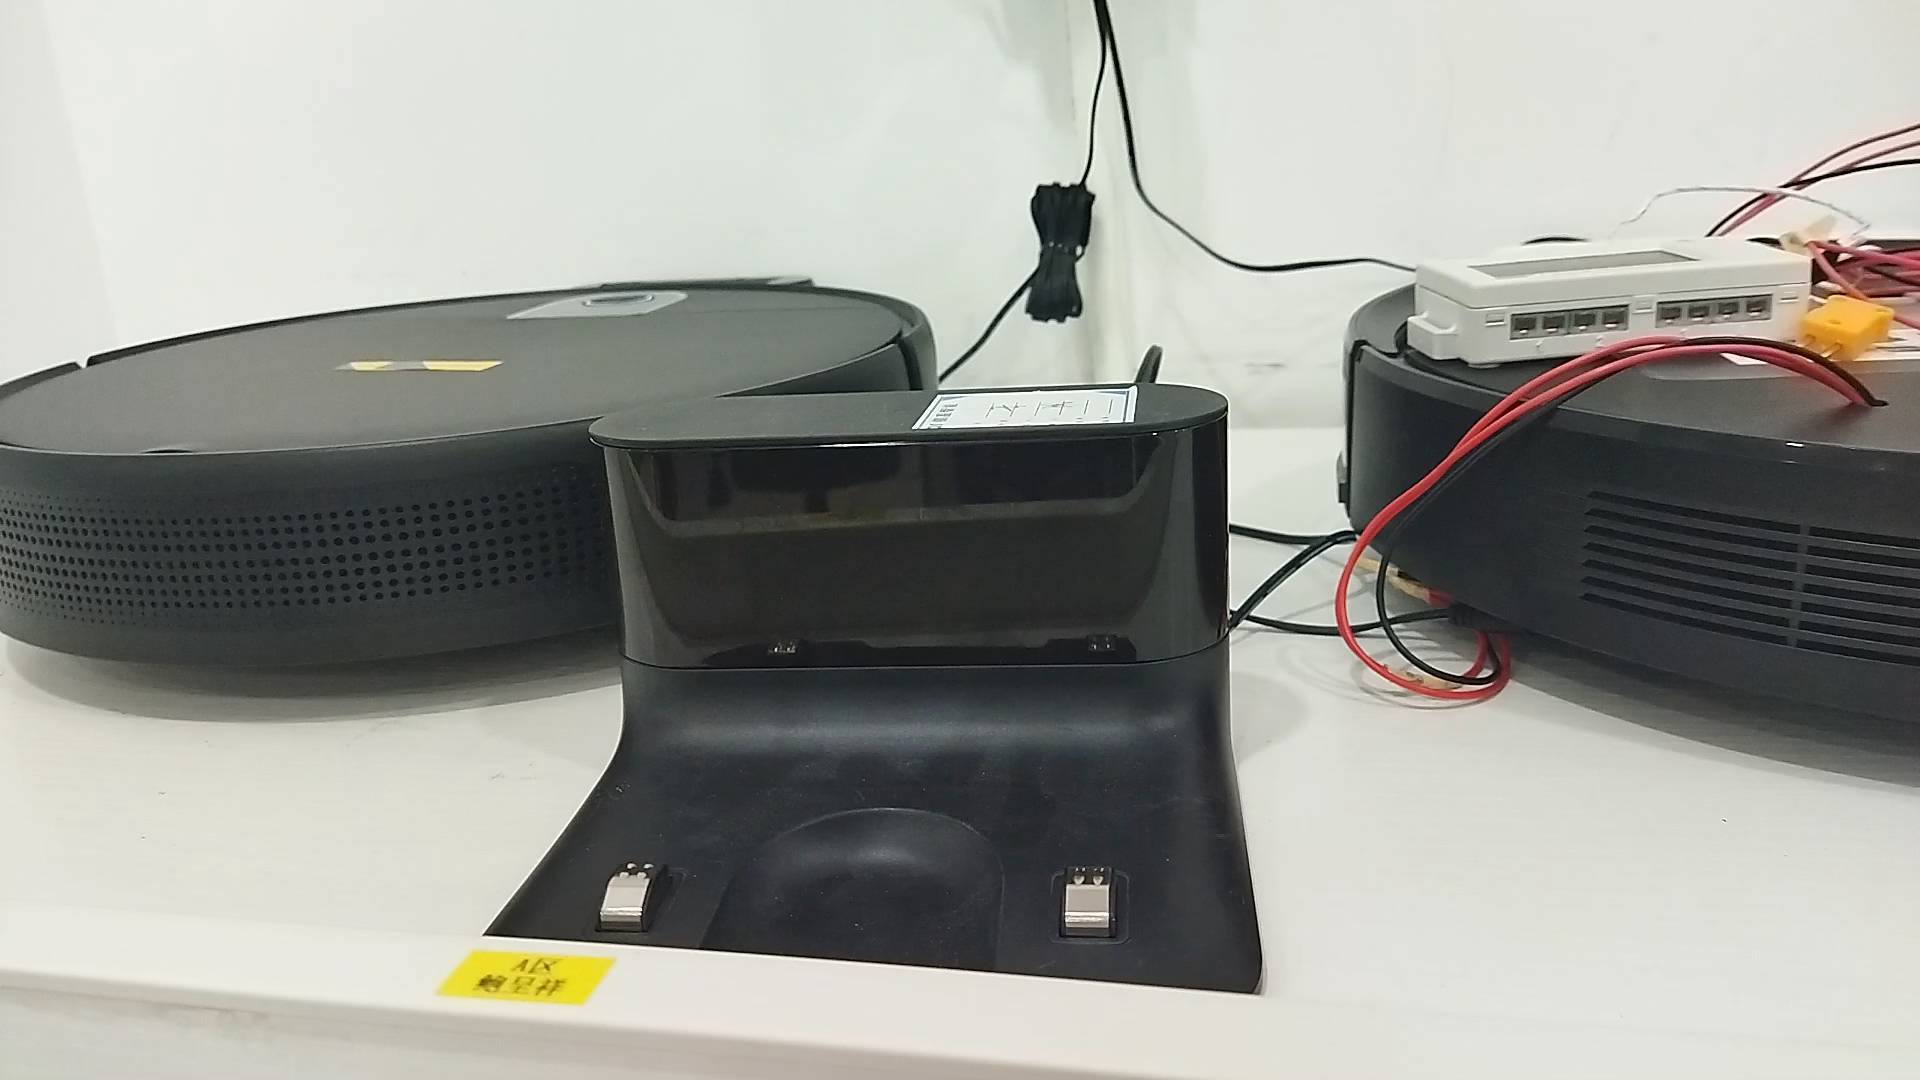recharge seat: (479, 378, 1276, 993)
